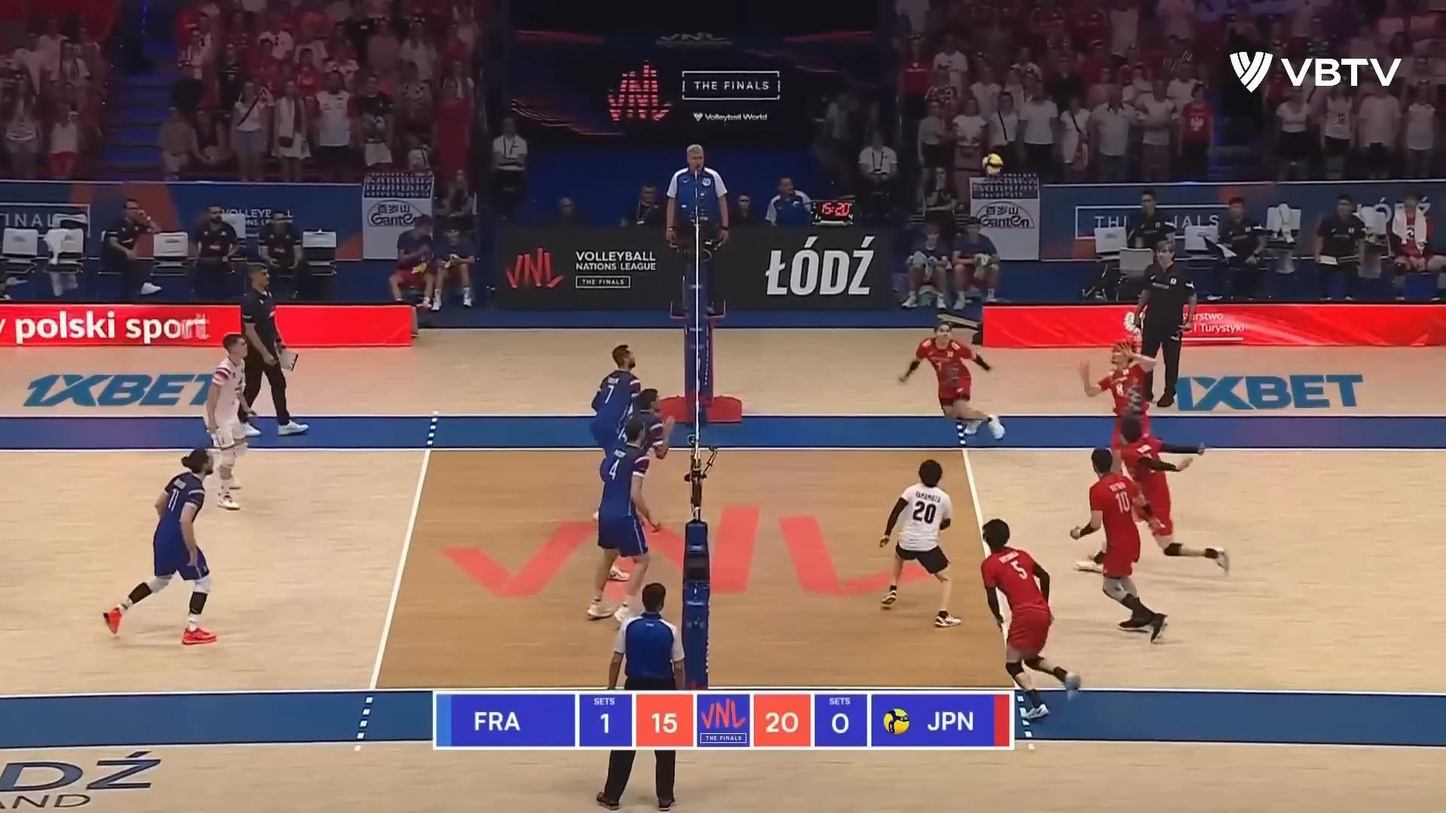ball: (983, 155, 1002, 175)
